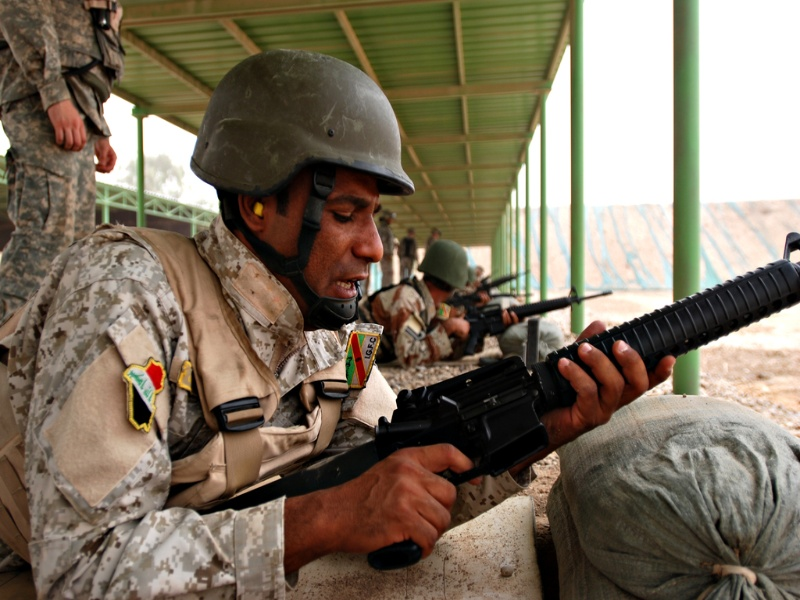Baret: (190, 48, 417, 194)
